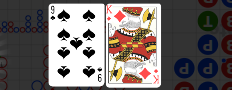9C: (96, 66, 104, 84)
KD: (153, 68, 160, 85)
